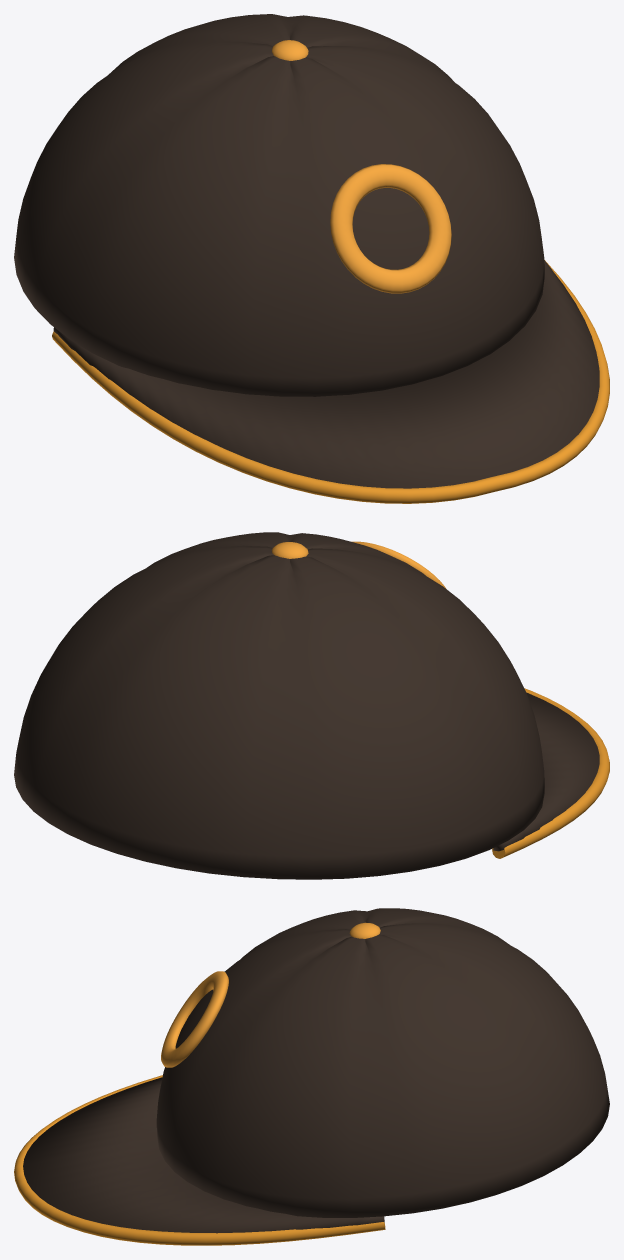
The model's file is gorra.glb.
3 views of the same model, one above another, from view 1: azimuth 30°, elevation 25°; view 2: azimuth 150°, elevation 25°; view 3: azimuth 270°, elevation 25° (orthographic). The views are drawn at different scales.
Parts seen in each view (by area): view 1: accesorio_gorra; view 2: accesorio_gorra; view 3: accesorio_gorra.
Boxes of the visible parts, <box> form: accesorio_gorra: <box>14,14,609,503</box>; accesorio_gorra: <box>14,532,609,879</box>; accesorio_gorra: <box>14,908,609,1245</box>.
Size of the model in its own units: 0.6039 by 0.3774 by 0.8052.
